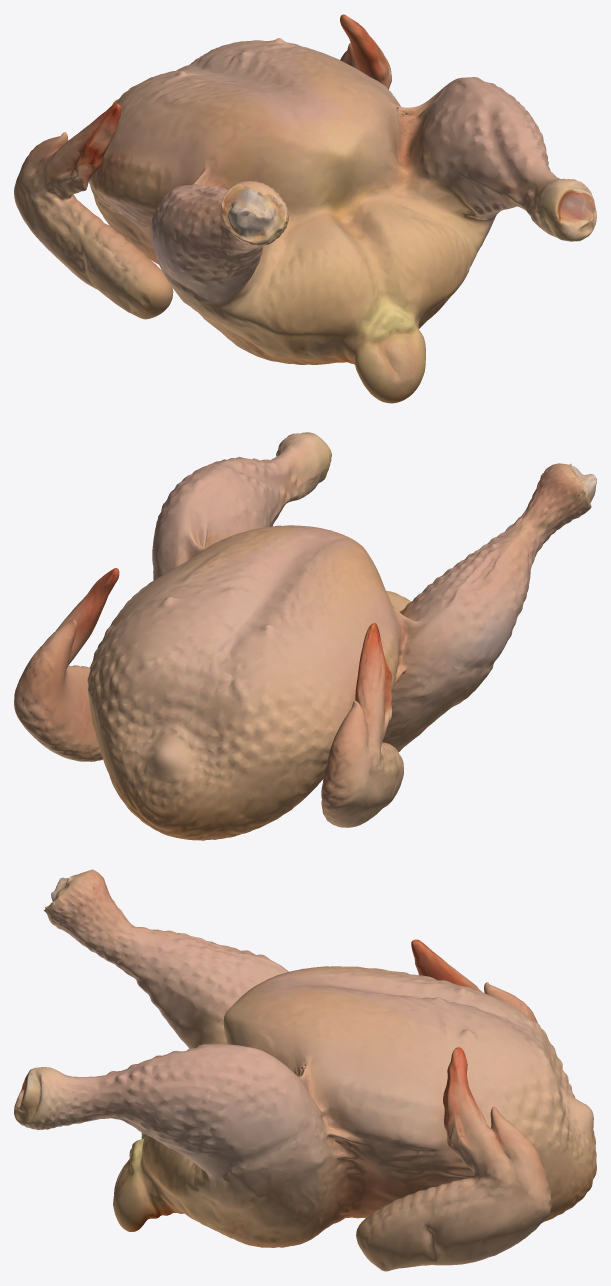
Rendered from raw-chicken-cuts.glb.
3 renders of one model, top to bottom at view 1: azimuth 30°, elevation 25°; view 2: azimuth 150°, elevation 25°; view 3: azimuth 270°, elevation 25°, orthographic. The views are drawn at different scales.
Parts seen in each view (by area): view 1: rest, breastL, wingL, thighL, breastR, thighR, drumR, drumL, wingR; view 2: rest, breastL, breastR, thighL, wingL, wingR, thighR, drumR, drumL; view 3: rest, thighR, breastR, wingR, drumR, thighL, drumL, breastL, wingL.
Boxes of the visible parts, x1,y1,x2,y2 form: rest: (89, 62, 499, 403); breastL: (112, 55, 342, 216); wingL: (14, 103, 173, 319); thighL: (147, 137, 309, 283); breastR: (198, 38, 394, 206); thighR: (370, 77, 529, 237); drumR: (467, 93, 596, 241); drumL: (215, 180, 289, 252); wingR: (340, 14, 391, 89); rest: (87, 565, 501, 840); breastL: (185, 530, 382, 718); breastR: (101, 525, 329, 704); thighL: (368, 539, 532, 681); wingL: (321, 623, 403, 827); wingR: (14, 568, 119, 761); thighR: (152, 466, 273, 580); drumR: (203, 432, 331, 526); drumL: (491, 463, 596, 563); rest: (113, 1034, 596, 1247); thighR: (145, 1044, 363, 1172); breastR: (223, 986, 550, 1115); wingR: (356, 1047, 551, 1271); drumR: (14, 1044, 207, 1133); thighL: (137, 930, 288, 1045); drumL: (43, 869, 167, 982); breastL: (226, 966, 550, 1061); wingL: (411, 939, 537, 1022).
Bounding box in the file's own units: 0.7439 × 0.522 × 0.9998.
3 materials, 1 textured.
